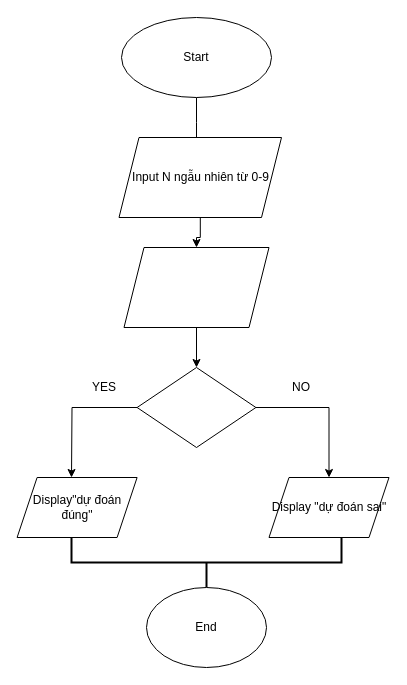
This 407x685 diagram has some shape labels left out. Each missing label, with the centre of its shape:
"Input M" goes at point (196, 287).
"N==M" goes at point (196, 407).
